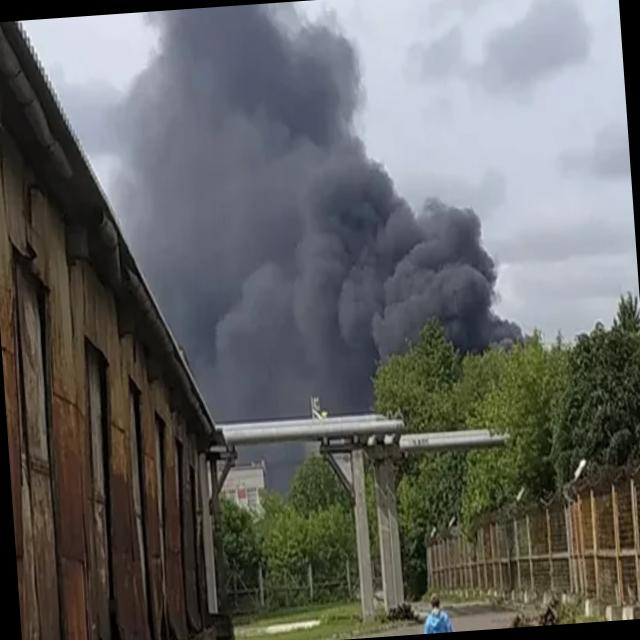Smoke: (101, 0, 531, 402)
